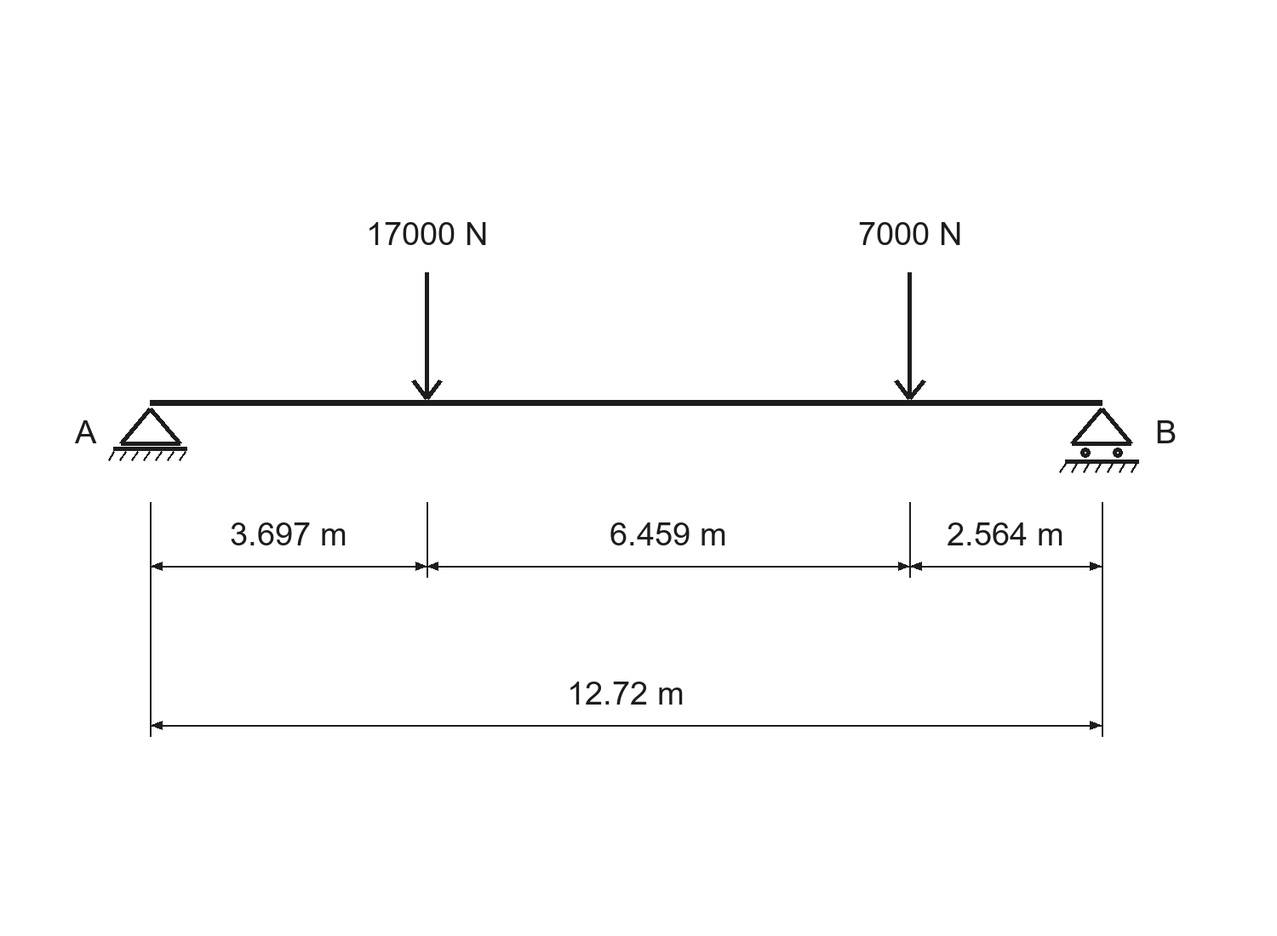pin_support: (108, 408, 187, 461)
point_load: (411, 272, 443, 400), (894, 272, 926, 400)
roller_support: (1059, 408, 1139, 473)
